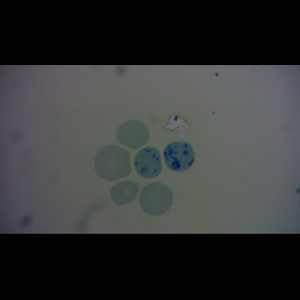aggregate reticulocyte: (162, 140, 196, 172), (133, 146, 163, 179)
erythrocyte: (93, 144, 132, 182), (115, 119, 150, 150), (109, 180, 139, 206)
punctate reticulocyte: (139, 181, 174, 215)
